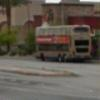buses: (34, 24, 93, 62)
